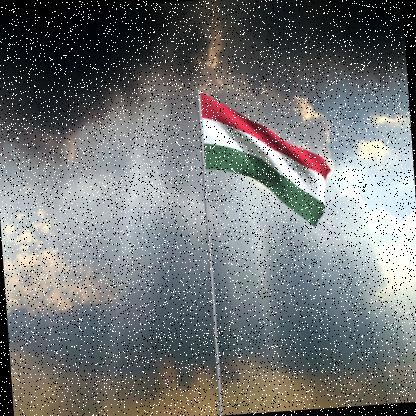hu: (202, 85, 336, 236)
